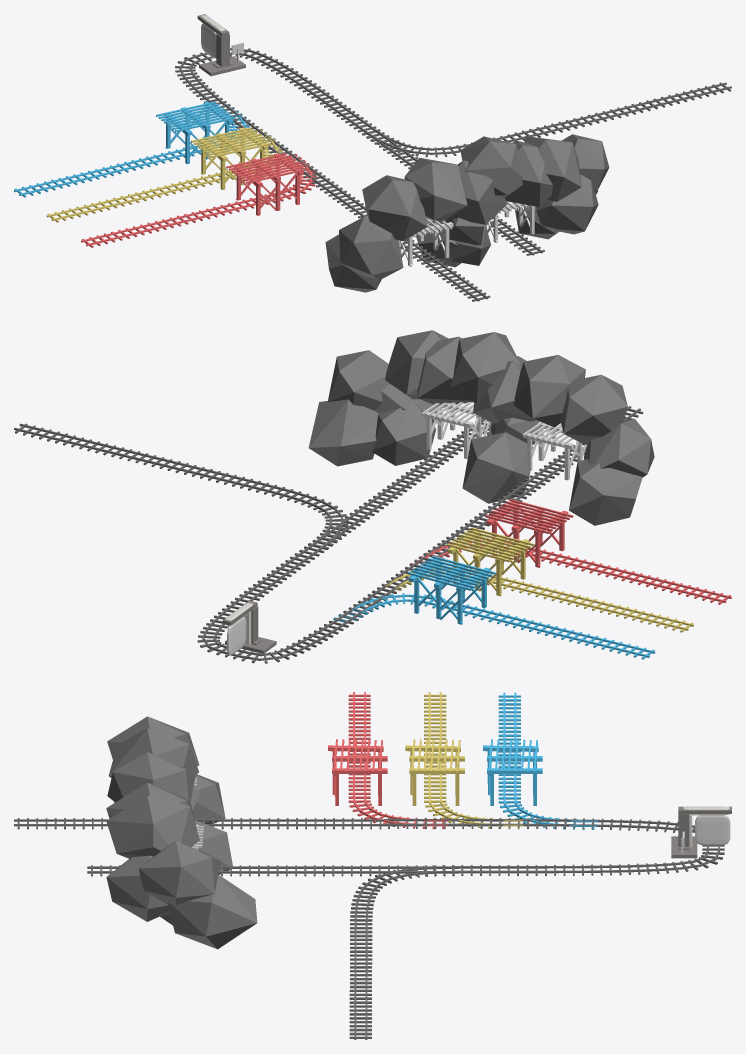
File: Rail_c1.fbx
3 views of the same model, one above another, from view 1: azimuth 30°, elevation 25°; view 2: azimuth 150°, elevation 25°; view 3: azimuth 270°, elevation 25° (orthographic). The views are drawn at different scales.
Parts seen in each view (by area): view 1: Icosphere, MainRail, Cube.006, Cube.005, Cube.001, OutRed, TrashOut, OutGold, OutBlue, MainRail02, STNBase, Cube.004 (+1 smaller); view 2: Icosphere, MainRail, Cube.001, Cube.005, Cube.006, OutBlue, MainRail02, OutGold, OutRed, Cube.002, TrashOut, Cube.004 (+2 smaller); view 3: Icosphere, MainRail, OutRed, OutGold, OutBlue, TrashOut, MainRail02, Cube.005, Cube.006, Cube.001, STNBase, Cube.
Boxes of the visible parts, x1=… form: Icosphere: x1=325, y1=134, x2=609, y2=292; MainRail: x1=175, y1=48, x2=731, y2=178; Cube.006: x1=226, y1=153, x2=305, y2=215; Cube.005: x1=191, y1=127, x2=270, y2=189; Cube.001: x1=156, y1=101, x2=235, y2=164; OutRed: x1=81, y1=154, x2=316, y2=247; TrashOut: x1=307, y1=174, x2=490, y2=301; OutGold: x1=46, y1=129, x2=282, y2=222; OutBlue: x1=14, y1=103, x2=249, y2=197; MainRail02: x1=362, y1=129, x2=544, y2=255; STNBase: x1=197, y1=14, x2=245, y2=76; Cube.004: x1=398, y1=218, x2=453, y2=266; Icosphere: x1=308, y1=330, x2=654, y2=525; MainRail: x1=14, y1=423, x2=453, y2=663; Cube.001: x1=407, y1=556, x2=495, y2=624; Cube.005: x1=446, y1=527, x2=534, y2=596; Cube.006: x1=485, y1=499, x2=573, y2=567; OutBlue: x1=333, y1=593, x2=655, y2=659; MainRail02: x1=308, y1=417, x2=488, y2=549; OutGold: x1=372, y1=567, x2=693, y2=632; OutRed: x1=410, y1=538, x2=731, y2=604; Cube.002: x1=421, y1=401, x2=491, y2=458; TrashOut: x1=441, y1=406, x2=643, y2=544; Cube.004: x1=522, y1=421, x2=587, y2=480; Icosphere: x1=106, y1=716, x2=257, y2=949; MainRail: x1=349, y1=818, x2=724, y2=1039; OutRed: x1=348, y1=692, x2=447, y2=829; OutGold: x1=424, y1=692, x2=523, y2=829; OutBlue: x1=498, y1=692, x2=597, y2=829; TrashOut: x1=14, y1=818, x2=384, y2=829; MainRail02: x1=87, y1=865, x2=458, y2=876; Cube.005: x1=405, y1=739, x2=464, y2=805; Cube.006: x1=328, y1=739, x2=387, y2=805; Cube.001: x1=483, y1=739, x2=542, y2=805; STNBase: x1=671, y1=806, x2=731, y2=858; Cube: x1=695, y1=815, x2=730, y2=845.
Bounding box in the file's own units: 4415 × 877 × 3870.
